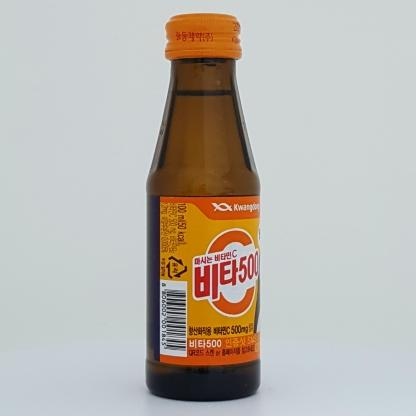-----500---100ML: (145, 12, 261, 402)
